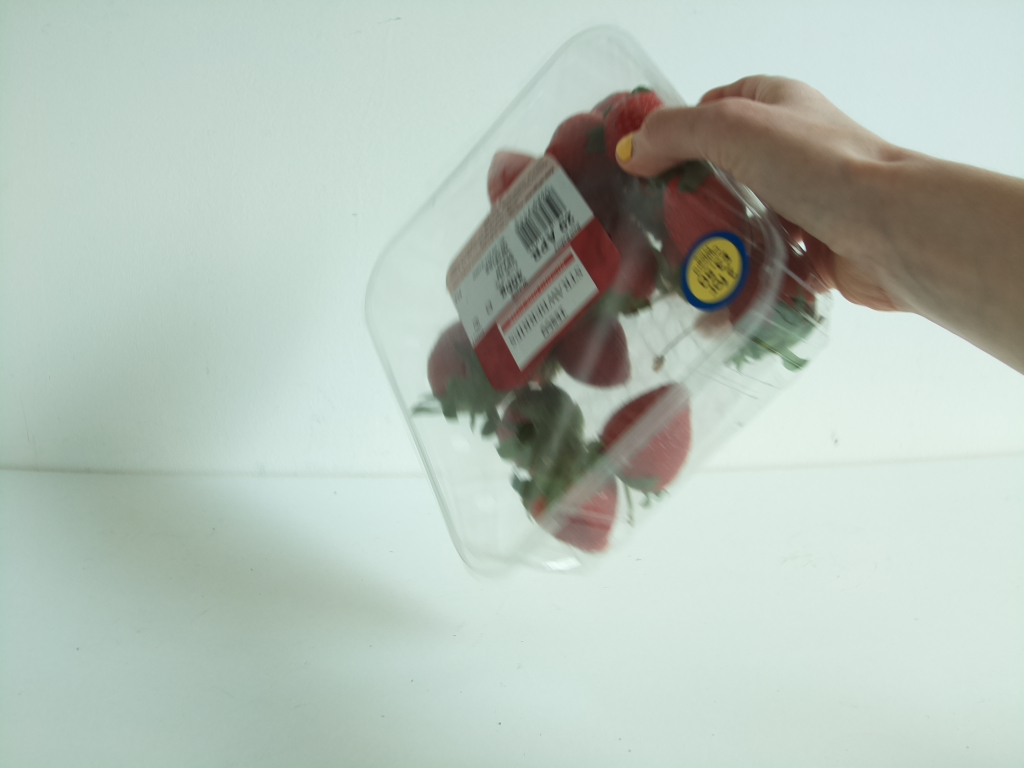soft-fruit: (363, 19, 829, 582)
